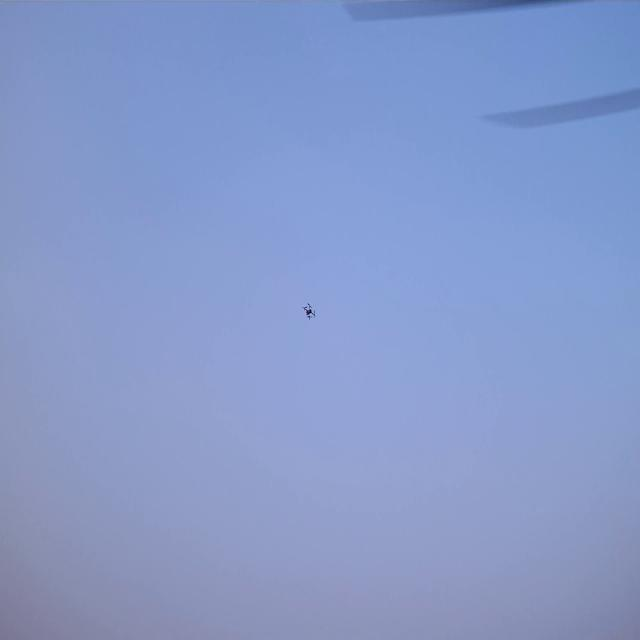UAV: (304, 304, 314, 319)
